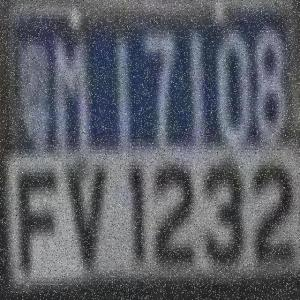Plate: (0, 2, 300, 300)
